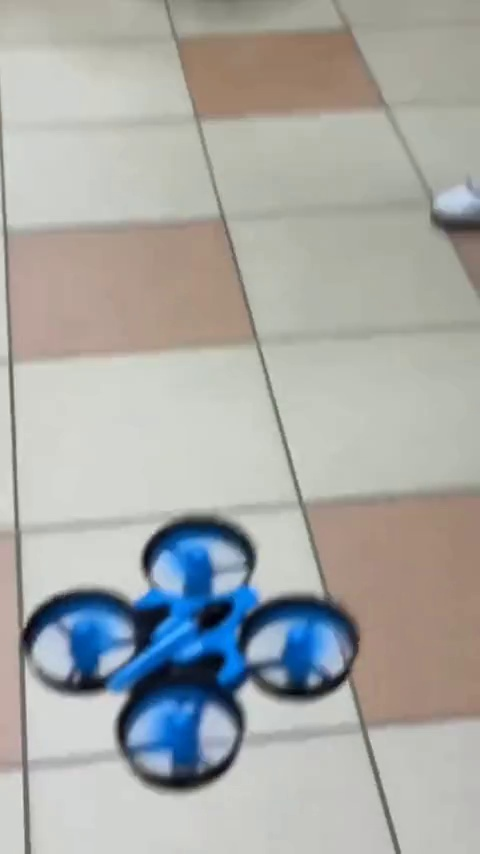drone: (15, 517, 352, 796)
